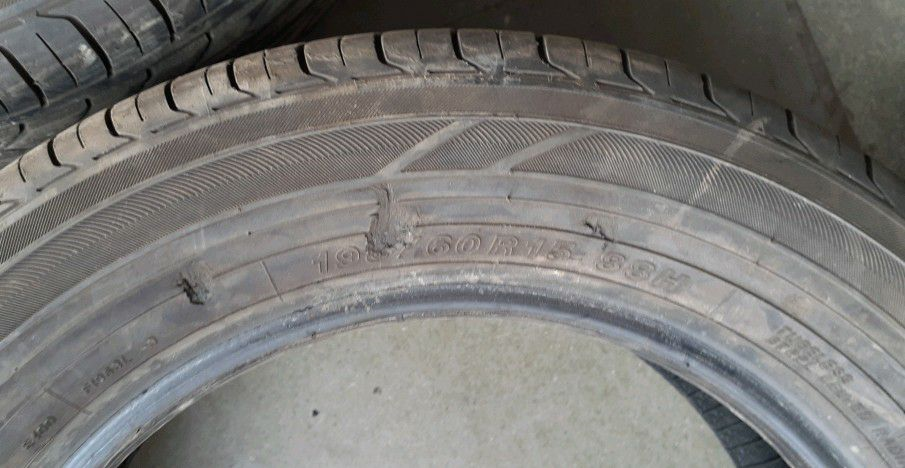cut: (364, 184, 419, 258), (177, 275, 211, 305), (580, 222, 616, 242)
